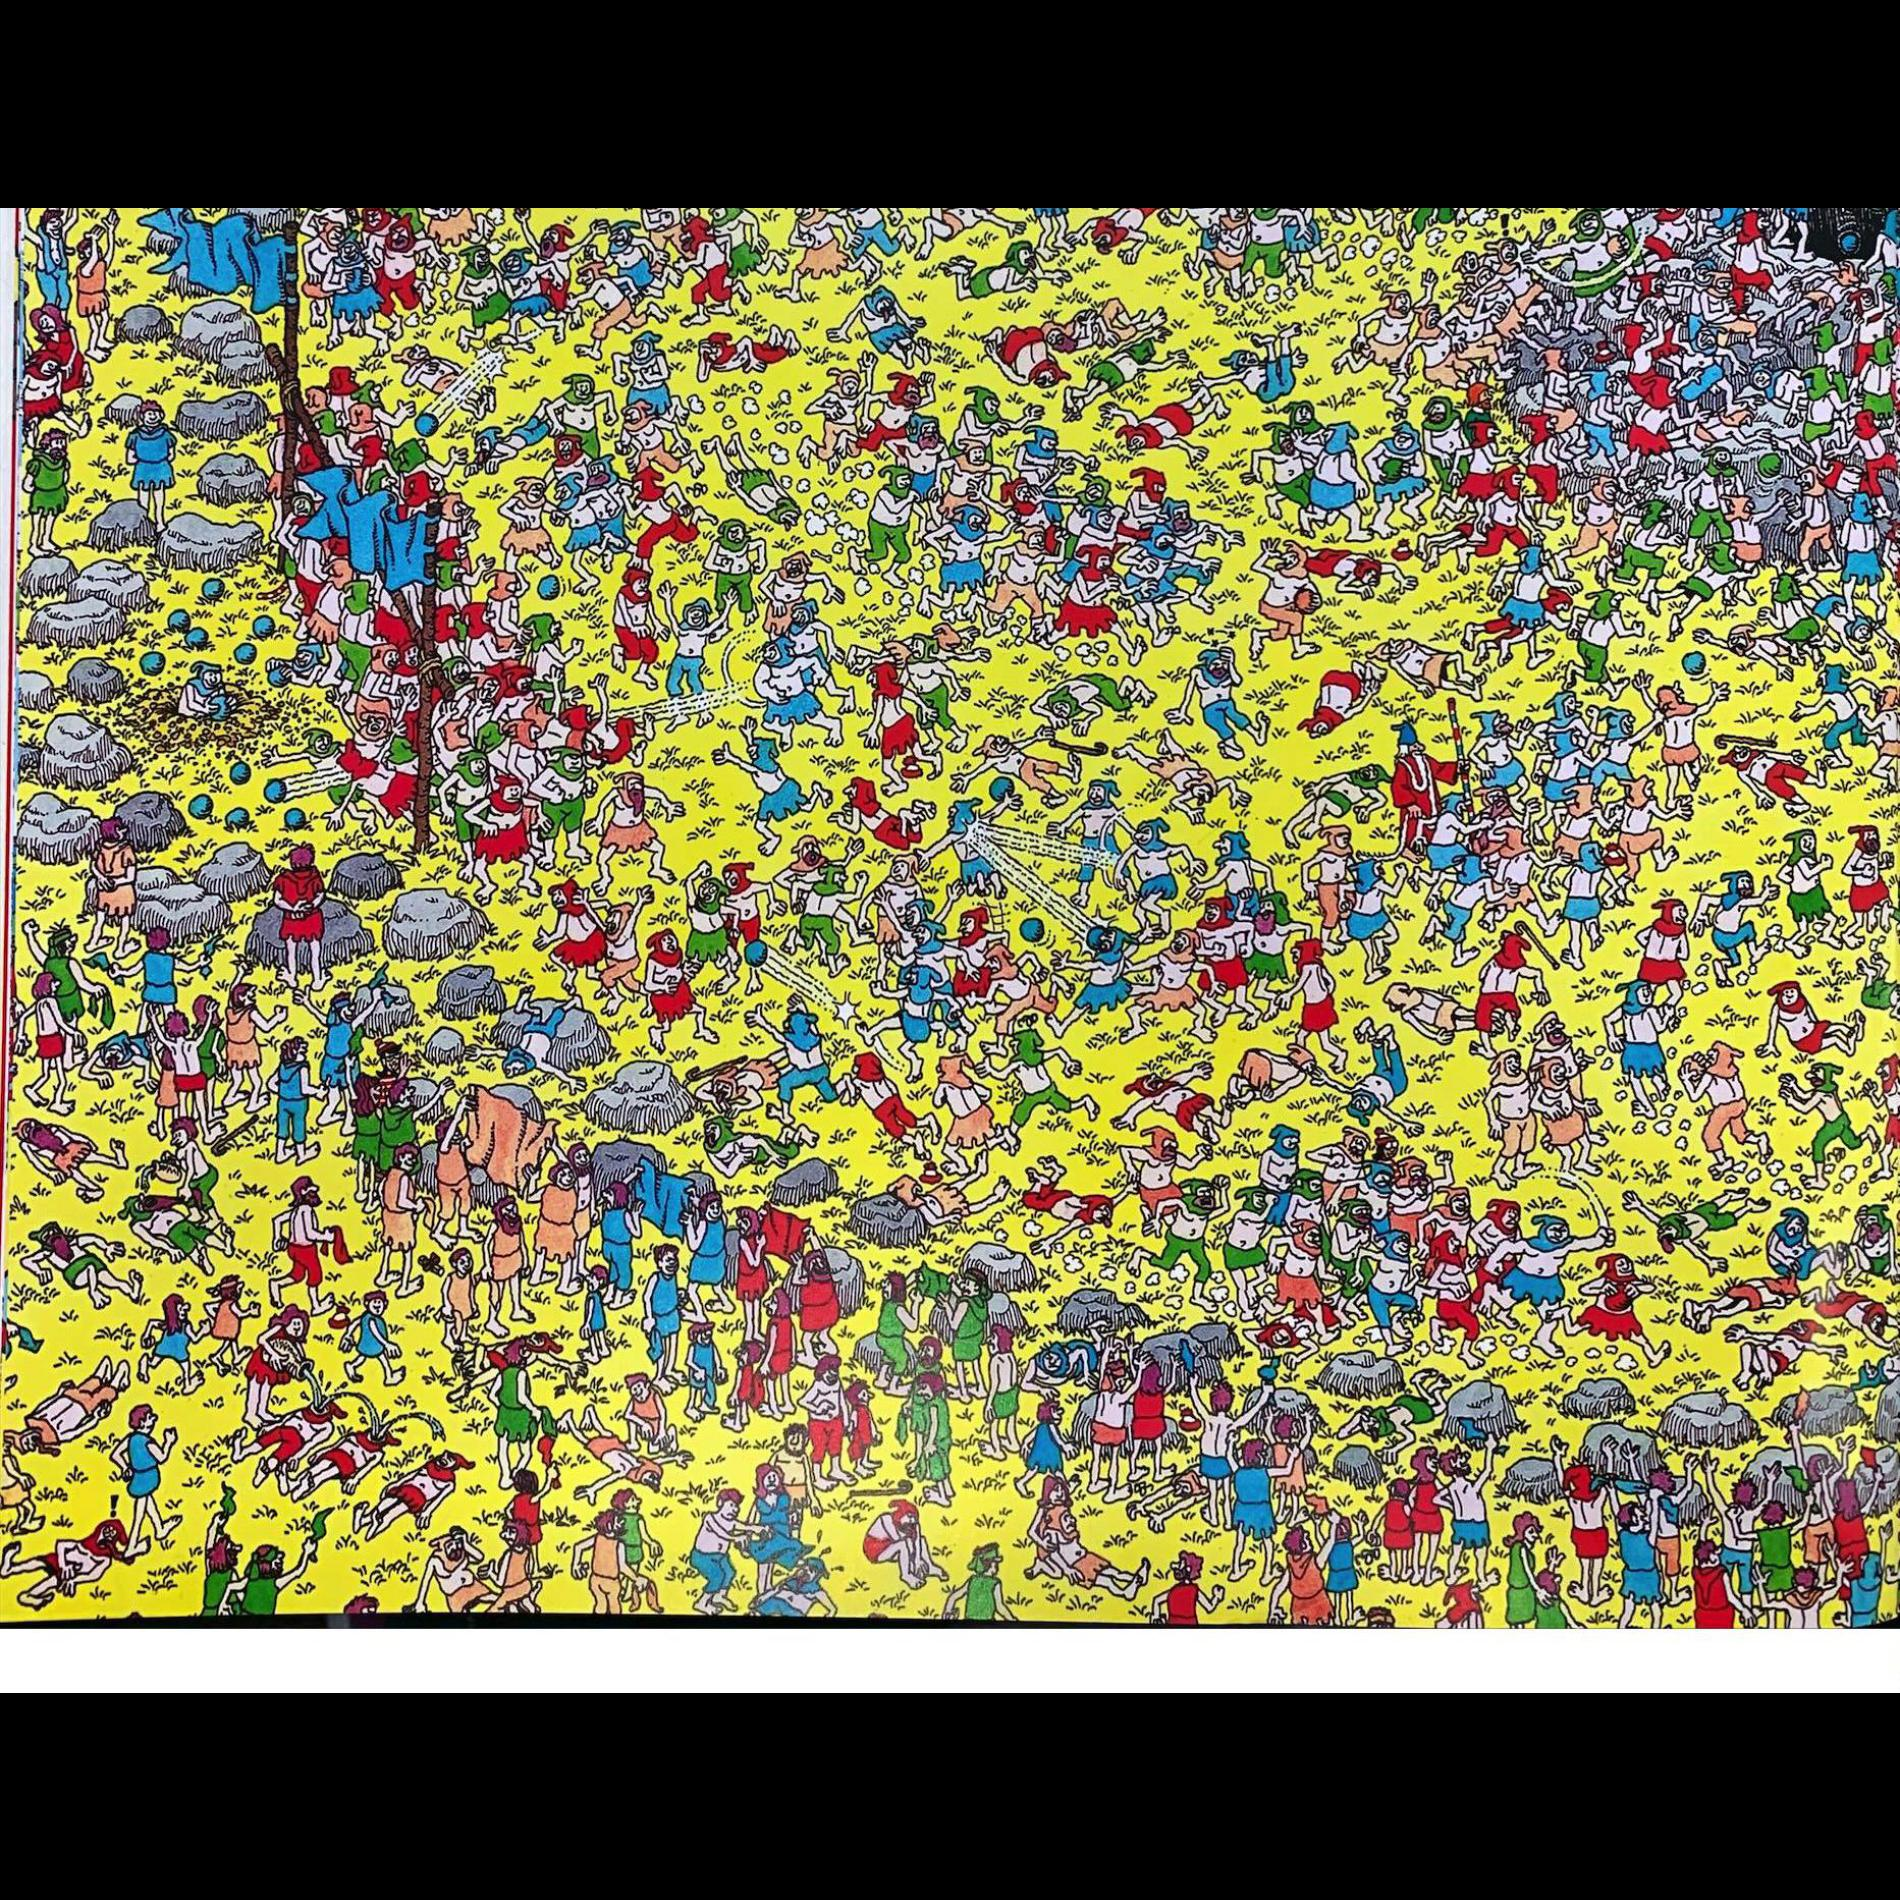Wilma: (374, 1035, 404, 1103)
Wizard: (1390, 694, 1470, 795)
